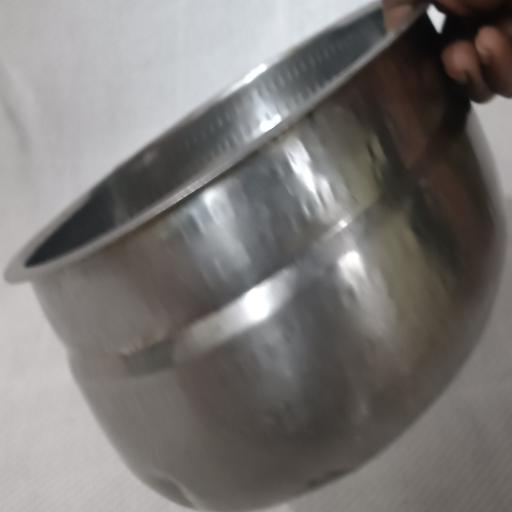vessel: (6, 8, 504, 511)
